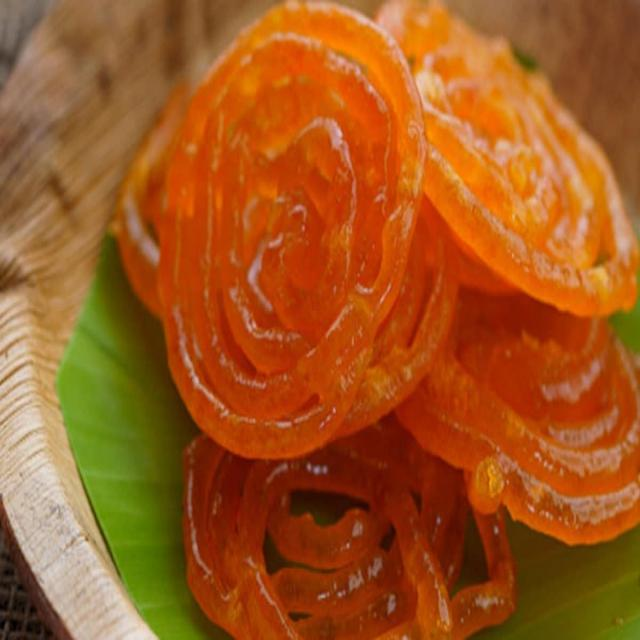jalebi: (141, 29, 634, 640)
